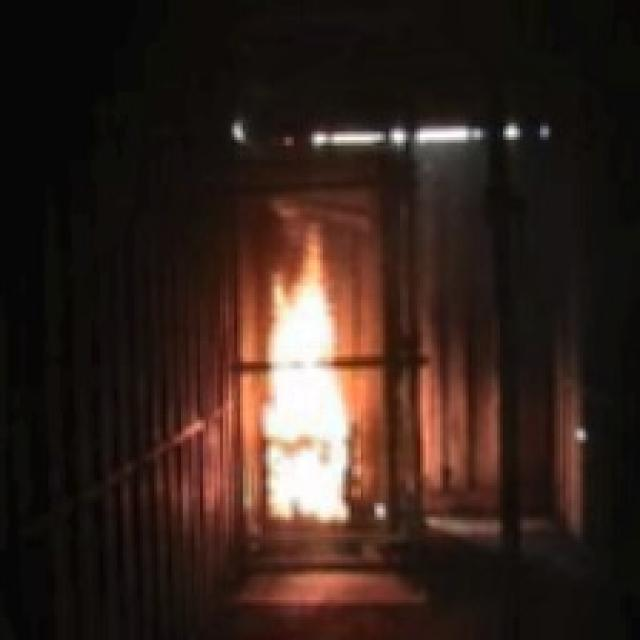fire: (244, 205, 359, 544)
